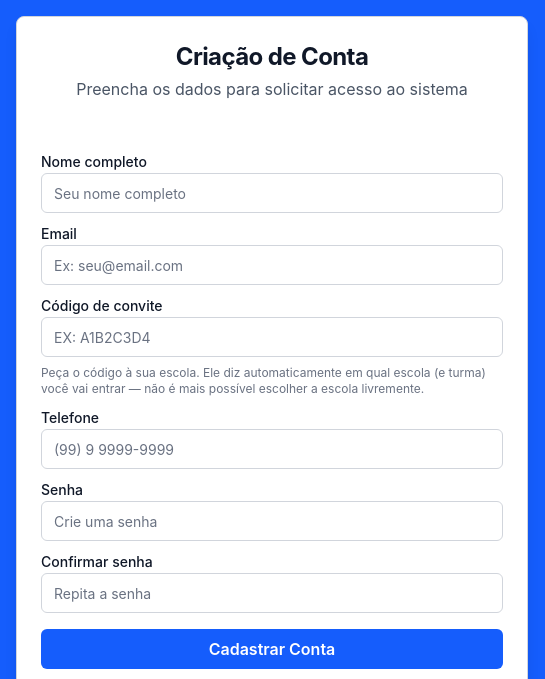
Test: CadastroUsuario › mostra a mensagem única quando o erro não traz lista
Type "Fulano de Tal" into the field labelled "Nome completo". click: (272, 193)
box: [41, 173, 503, 213]
Type "fulano@escola.com" into the field labelled "Email". click: (272, 265)
box: [41, 245, 503, 285]
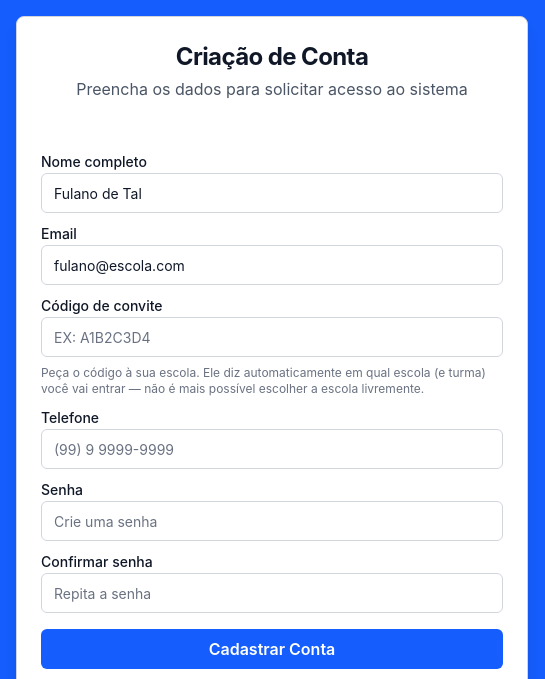
Type "51999999999" into the field labelled "Telefone". click: (272, 449)
box: [41, 429, 503, 469]
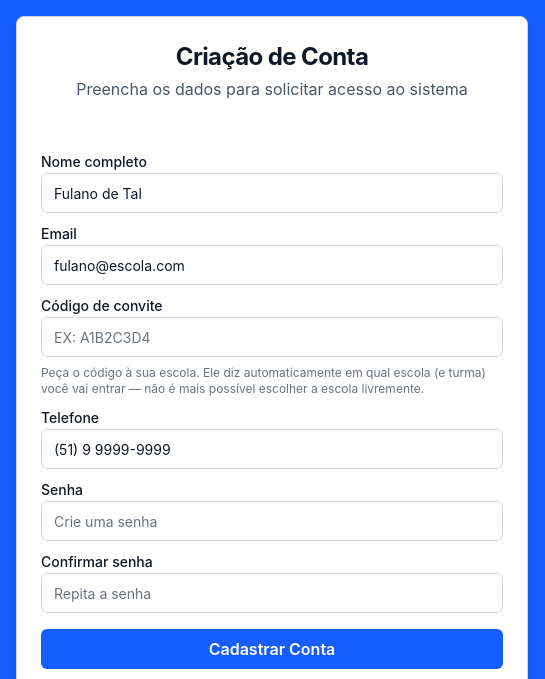
Type "senha123" into the password field labelled "Senha". click: (272, 521)
box: [41, 501, 503, 541]
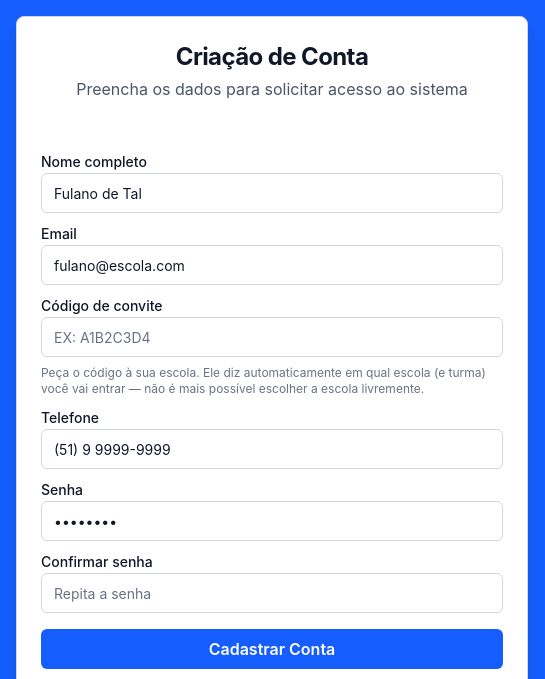
Type "senha123" into the password field labelled "Confirmar senha". click: (272, 593)
box: [41, 573, 503, 613]
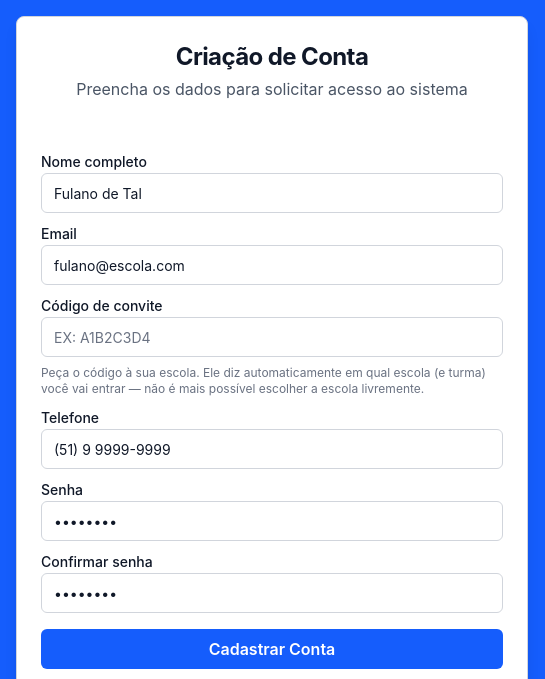
Type "CODIGO01" into the field labelled "Código de convite". click: (272, 337)
box: [41, 317, 503, 357]
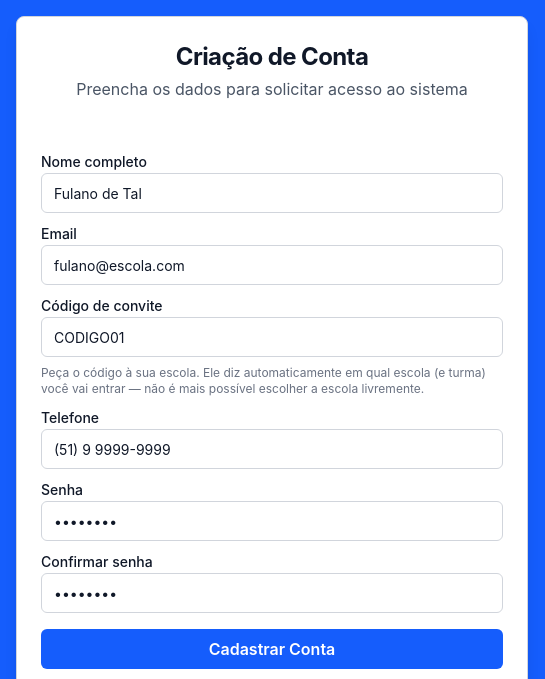
Click the button "Cadastrar Conta". click: (272, 649)
box: [41, 629, 503, 669]
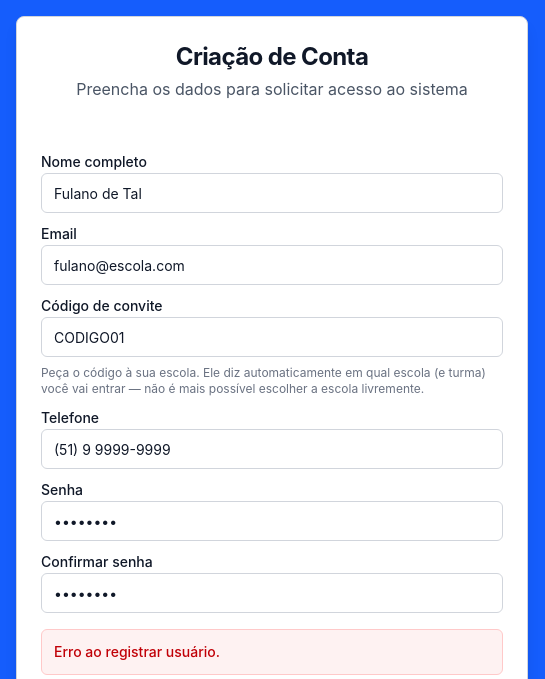
Expected: the message reads "Erro ao registrar usuário.", [54, 643, 220, 660]
